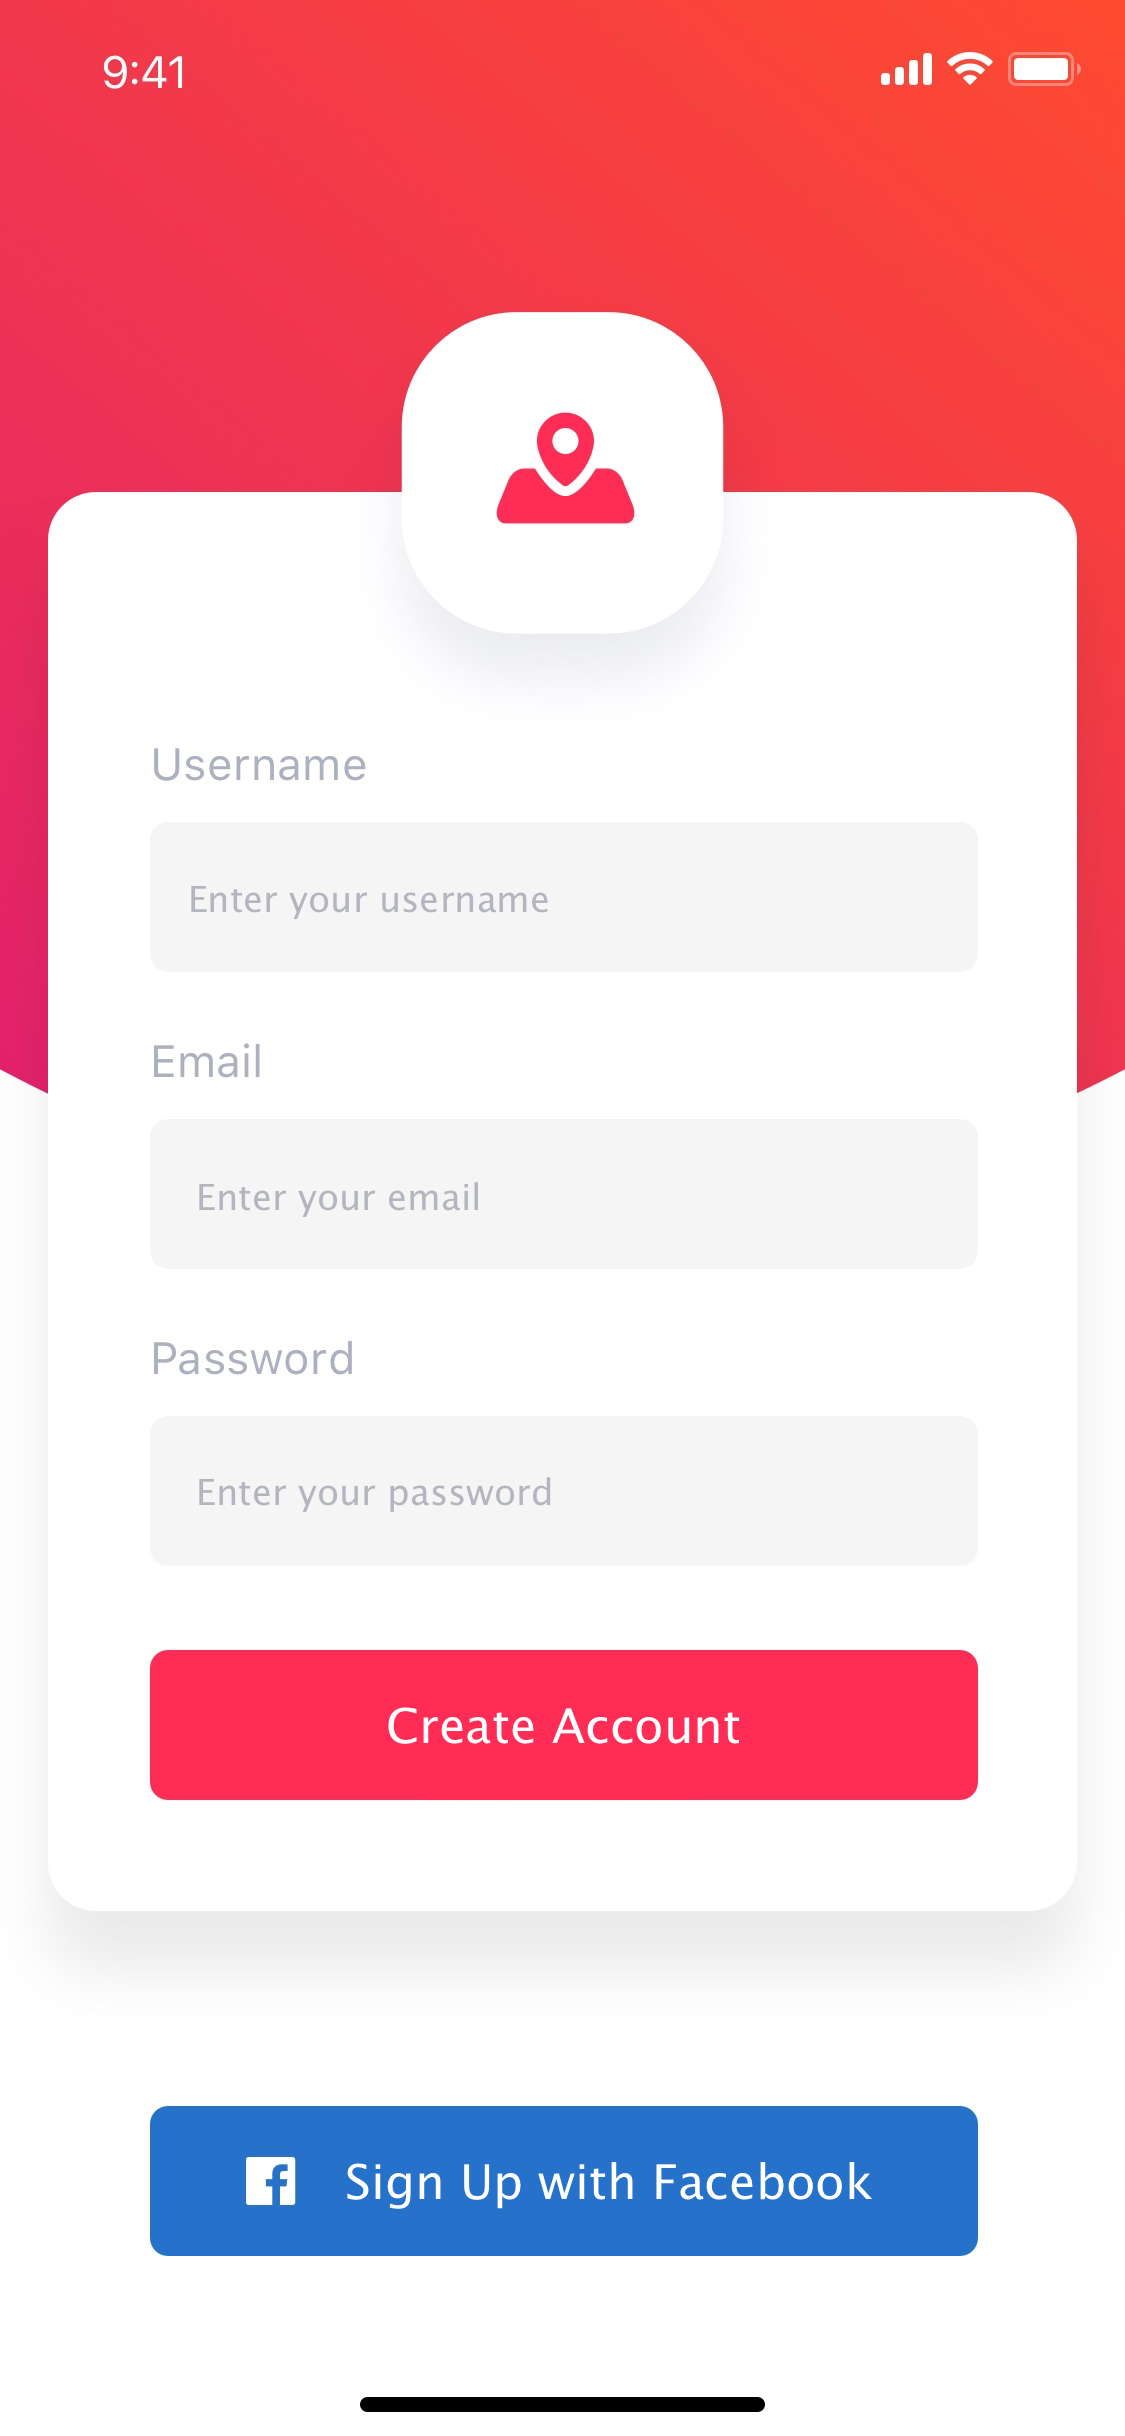EditText: (151, 1415, 979, 1568), (151, 1119, 979, 1269), (151, 822, 979, 973)
Image: (402, 312, 726, 635)
Text: (199, 1477, 552, 1515), (191, 886, 549, 920), (199, 1181, 480, 1218), (154, 747, 367, 783), (154, 1341, 354, 1376), (154, 1042, 263, 1080)
TextButton: (151, 2105, 979, 2257), (151, 1650, 979, 1801)
UpperTaskBar: (104, 51, 1081, 92)
